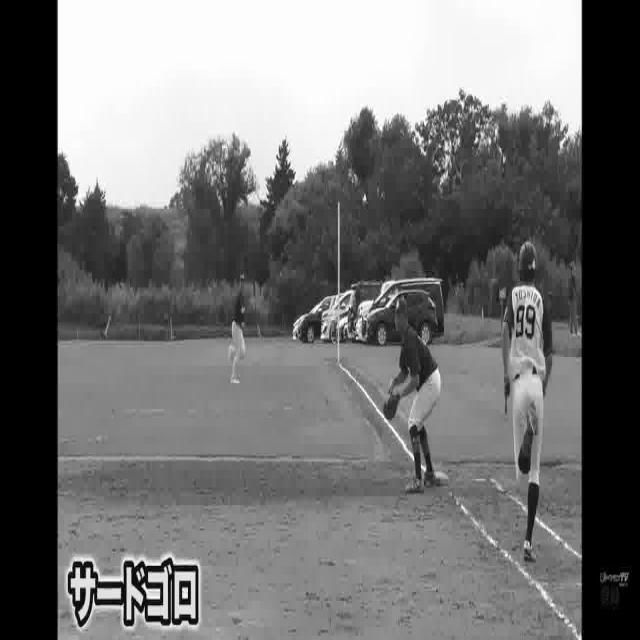base: (415, 469, 450, 485)
baseball_glove: (382, 387, 402, 423)
shoe: (513, 534, 538, 562), (406, 471, 424, 501), (416, 466, 436, 485), (529, 397, 537, 433)
